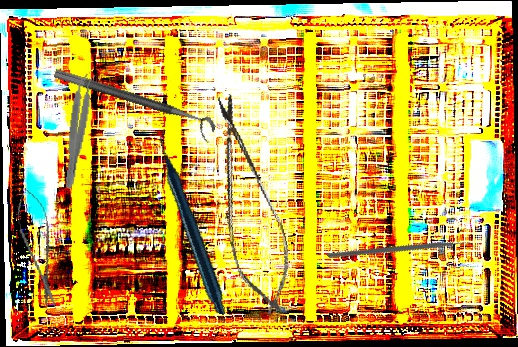Chopper: (326, 179, 480, 327)
Fixation Ring: (49, 67, 218, 144)
Handpiece: (116, 128, 271, 316)
Micro Scissor: (195, 89, 303, 320), (10, 185, 67, 312)
Tissue Forceps: (61, 72, 97, 190)
